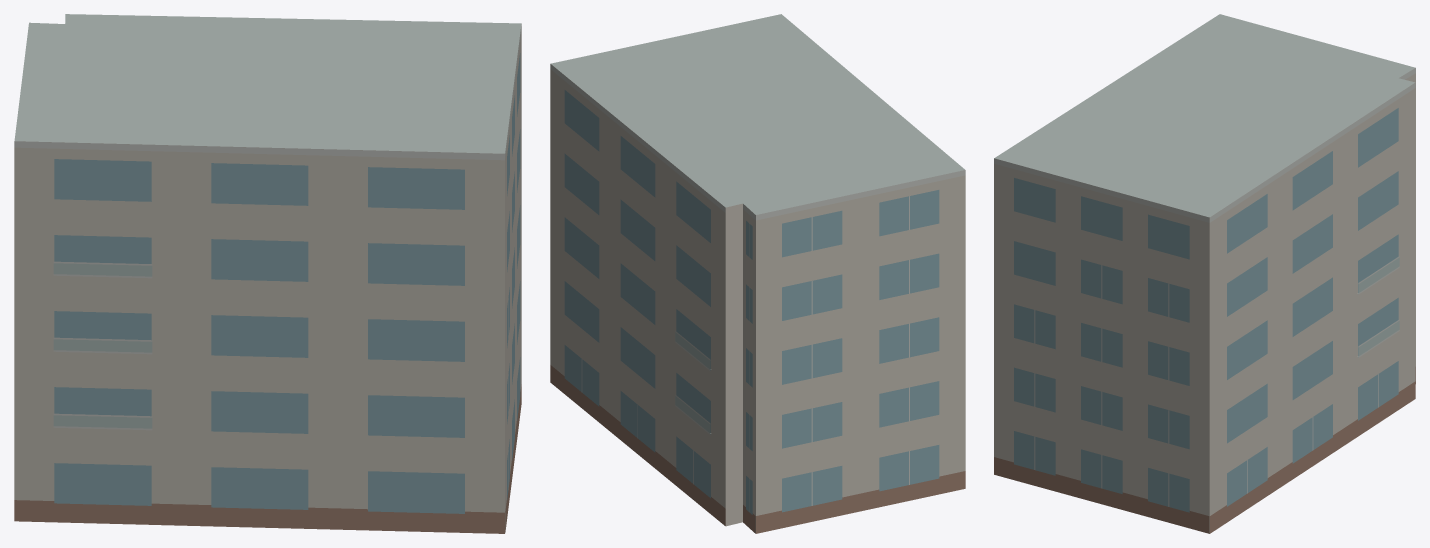
File: survey-upis-32747421.glb
The picture shows the model from 3 angles, left to right: view 1: azimuth 30°, elevation 25°; view 2: azimuth 150°, elevation 25°; view 3: azimuth 270°, elevation 25°; orthographic projection. The views are drawn at different scales.
Visible parts, largest first — view 1: survey-upis-32747421.tmp; view 2: survey-upis-32747421.tmp; view 3: survey-upis-32747421.tmp.
Boxes of the visible parts, <box> form: survey-upis-32747421.tmp: <box>14,14,521,533</box>; survey-upis-32747421.tmp: <box>550,14,965,533</box>; survey-upis-32747421.tmp: <box>994,14,1415,533</box>.
Bounding box in the file's own units: 19.73 × 14.3 × 17.28.
